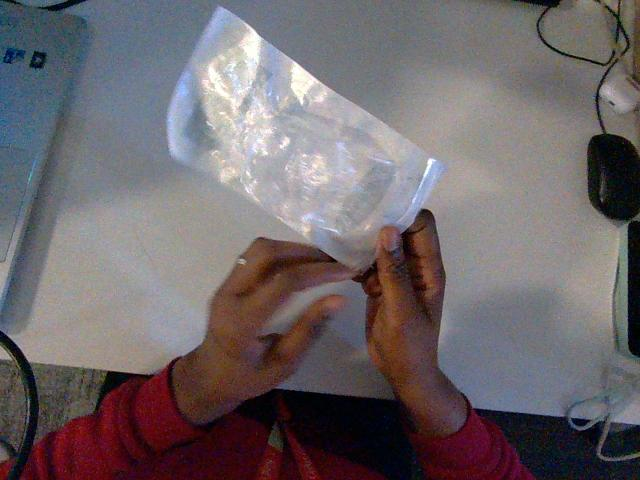gallipot: (168, 8, 443, 269)
